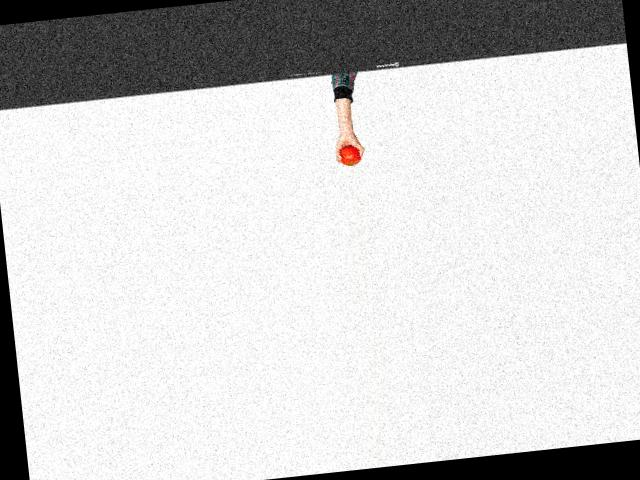tomato: (338, 144, 361, 167)
